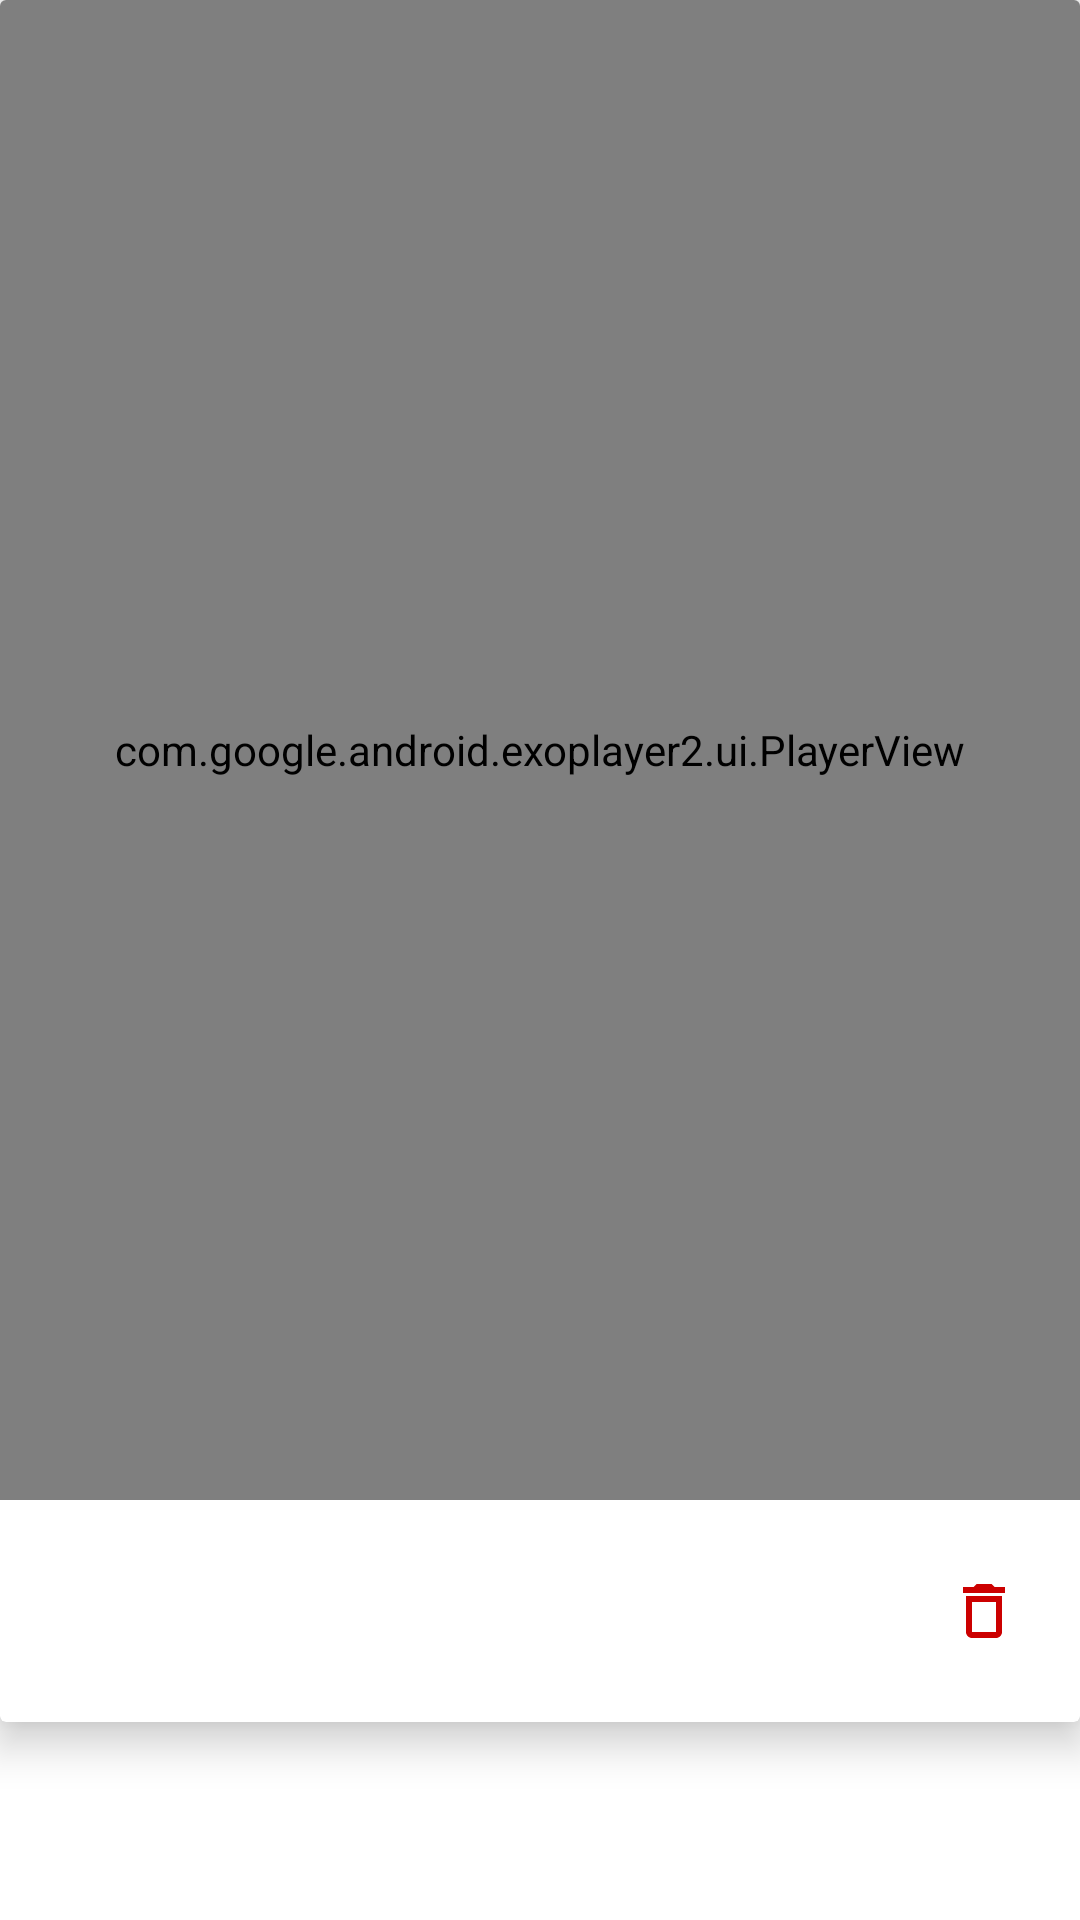

Icon click points for this 1080×1920 phone screenshot, format [x,y]:
delete: [984,1611]
